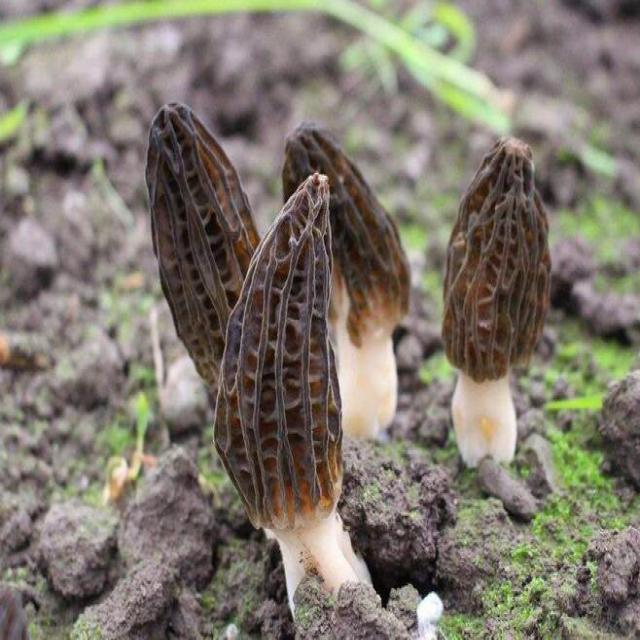Morchella esculenta: (146, 106, 370, 609), (290, 123, 411, 435), (437, 140, 550, 468)
